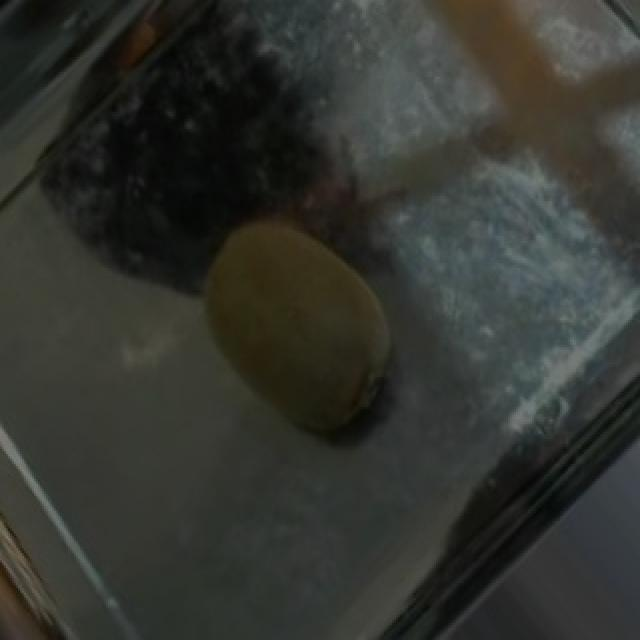Fruit: (166, 196, 438, 479)
